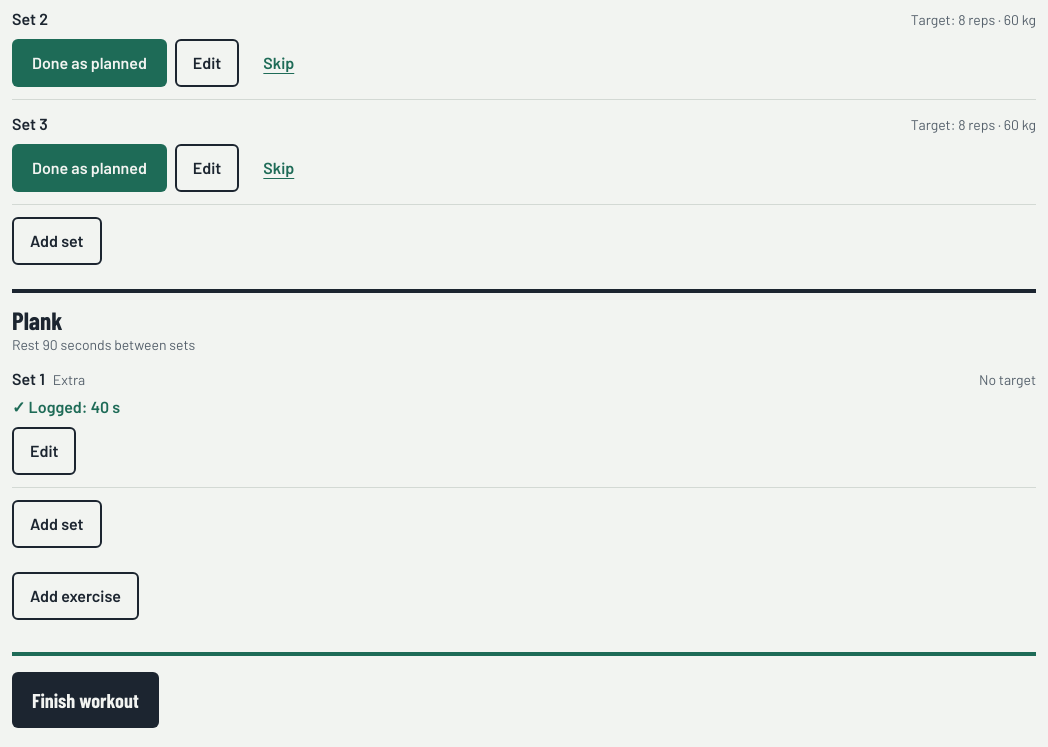
it: editing sets › keeps an extra exercise that already has logged sets when Cancel is pressed
This screenshot has width=1048, height=747.
(page scrolled)
Click the button "Add set" below "Logged: 40 s" at {"x": 57, "y": 524}, box 12,500 -> 102,548
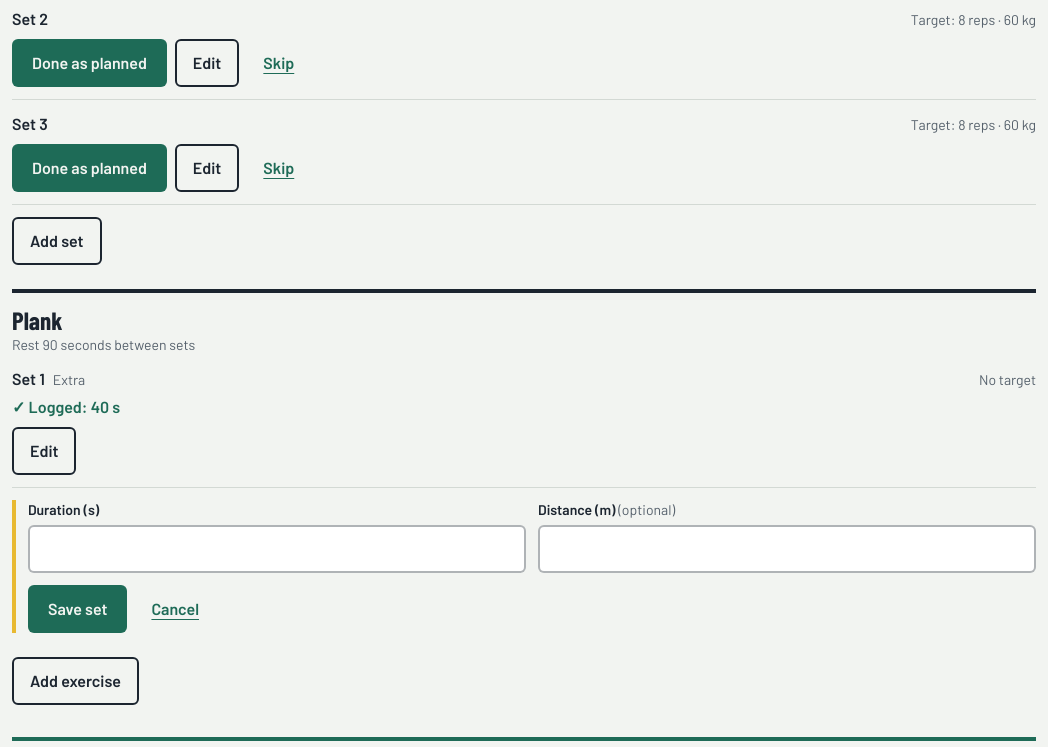
Click the button "Cancel" at {"x": 175, "y": 609}, box 135,585 -> 215,633
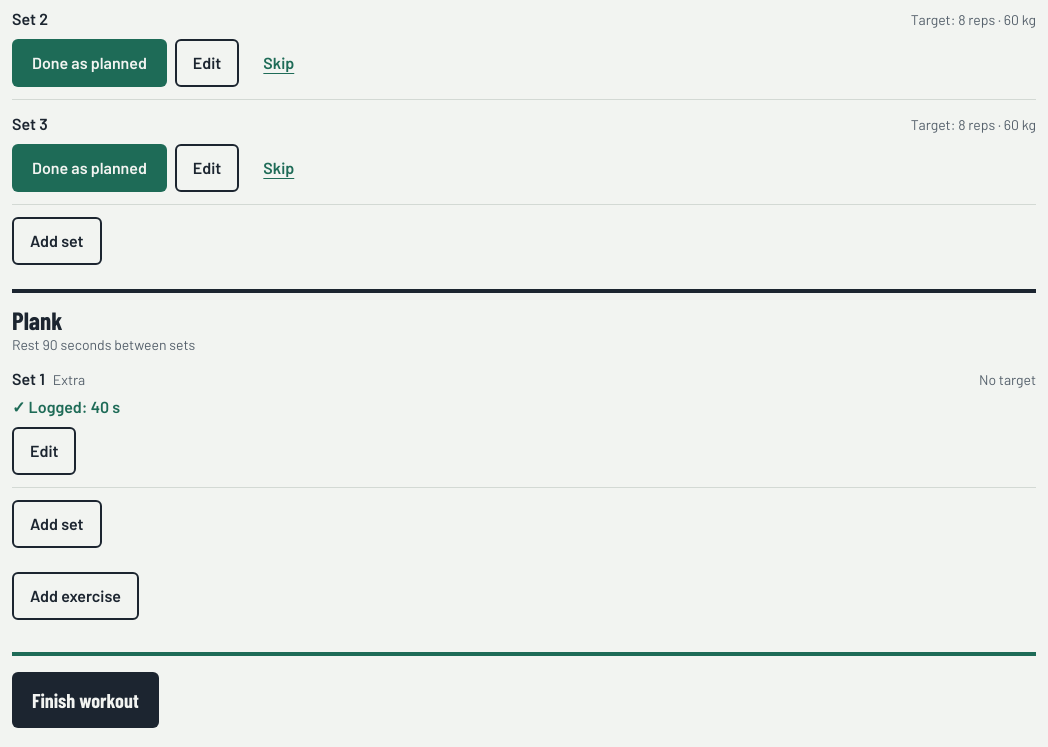
Check: the heading "Plank" is shown, box 12,305 -> 62,335
Check: the button "Add set" below "Logged: 40 s" is shown, box 12,500 -> 102,548
